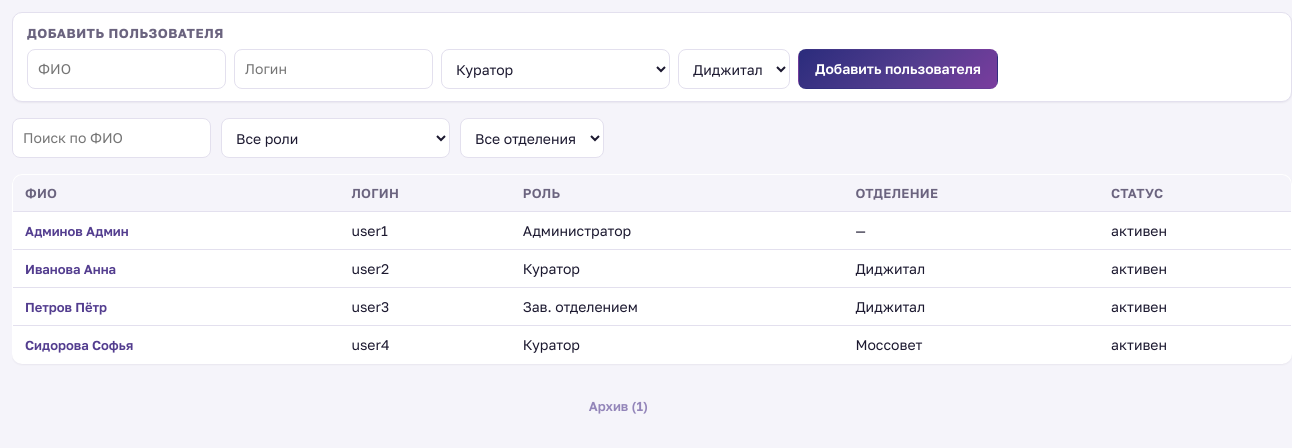
Test: UsersTab — создание › занятый логин — сообщение сервера, второй запрос не уходит, введённое остаётся
Expected: the link "Иванова Анна" is shown, [21,259,120,279]
In the field with placeholder "ФИО": coordinates (126, 69) [27,49,226,89], type "Новая Нина"
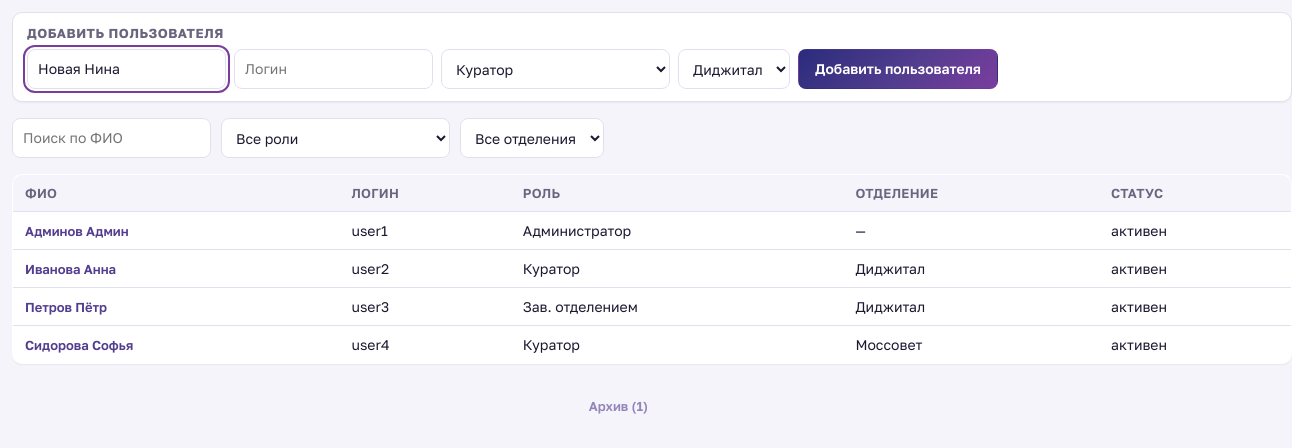
In the field with placeholder "Логин": coordinates (334, 69) [234,49,433,89], type "user2"
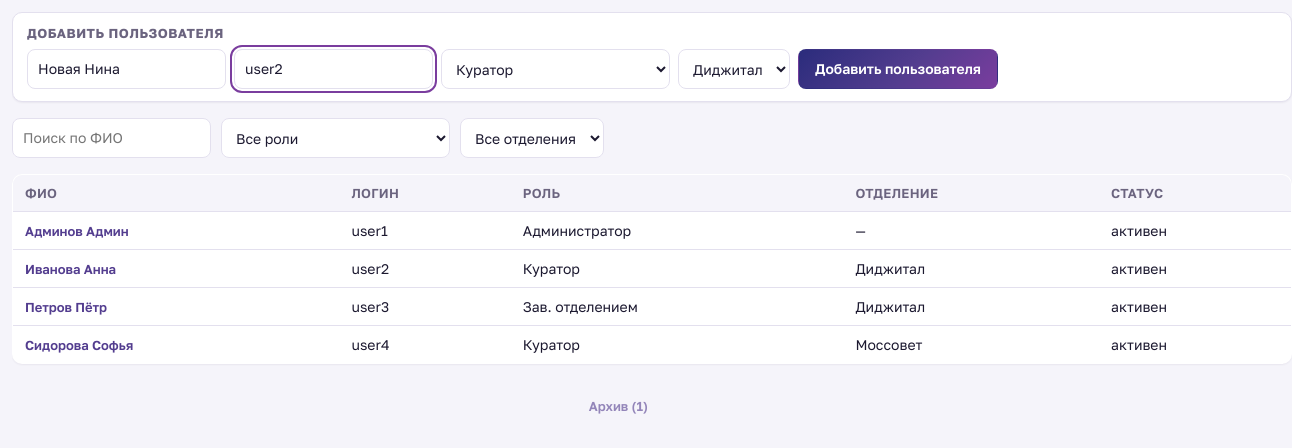
Click the button "Добавить пользователя": coordinates (898, 69) [798,49,998,89]
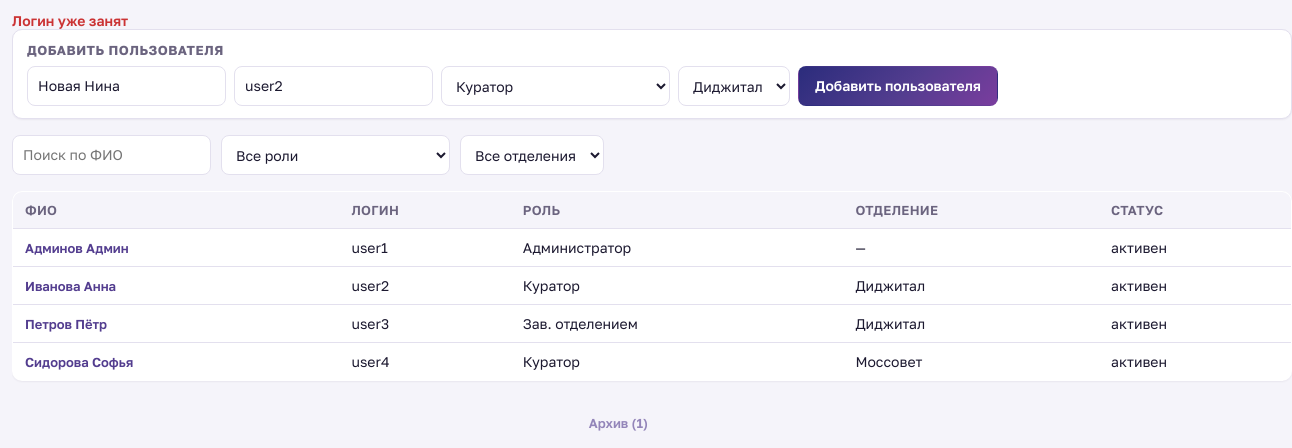
Result: the text "Логин уже занят" is shown at [12,12,128,29]
